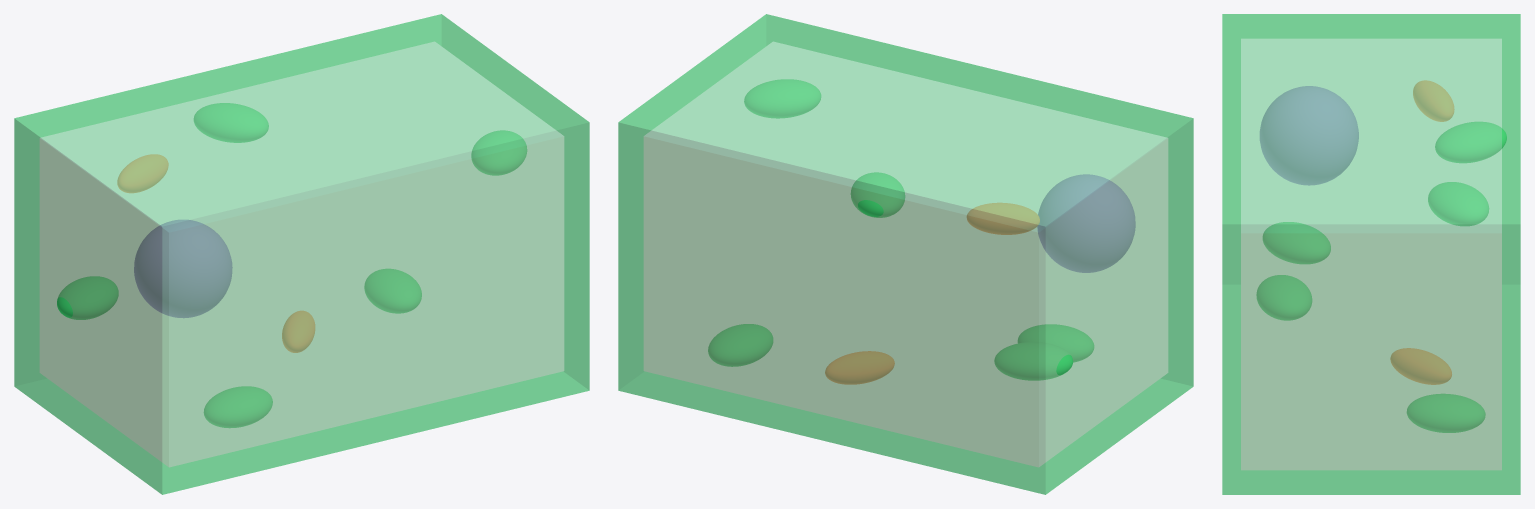
File: plant.glb
The picture shows the model from 3 angles, left to right: view 1: azimuth 30°, elevation 25°; view 2: azimuth 150°, elevation 25°; view 3: azimuth 270°, elevation 25°; orthographic projection.
Parts seen in each view (by area): view 1: wall, membrane, nucleus, chloroplast3, chloroplast0, chloroplast4, chloroplast1, chloroplast2, mito1, mito0; view 2: wall, membrane, nucleus, chloroplast4, chloroplast2, chloroplast1, chloroplast3, mito1, mito0, chloroplast0; view 3: wall, membrane, nucleus, chloroplast1, chloroplast3, chloroplast2, chloroplast4, chloroplast0, mito0, mito1.
Boxes of the visible parts, x1,y1,x2,y2 form: wall: [14, 14, 589, 494]; membrane: [40, 42, 563, 466]; nucleus: [134, 220, 232, 317]; chloroplast3: [194, 103, 268, 142]; chloroplast0: [204, 386, 272, 427]; chloroplast4: [57, 276, 118, 319]; chloroplast1: [364, 269, 421, 313]; chloroplast2: [471, 130, 526, 175]; mito1: [117, 154, 168, 192]; mito0: [282, 311, 314, 352]; wall: [618, 14, 1193, 494]; membrane: [644, 42, 1167, 466]; nucleus: [1037, 174, 1135, 272]; chloroplast4: [994, 342, 1072, 380]; chloroplast2: [744, 79, 820, 118]; chloroplast1: [708, 324, 772, 366]; chloroplast3: [851, 172, 904, 217]; mito1: [967, 203, 1039, 234]; mito0: [825, 351, 894, 384]; chloroplast0: [1018, 324, 1093, 362]; wall: [1222, 14, 1520, 494]; membrane: [1241, 39, 1501, 469]; nucleus: [1260, 86, 1358, 185]; chloroplast1: [1407, 394, 1485, 432]; chloroplast3: [1435, 122, 1506, 162]; chloroplast2: [1263, 222, 1330, 263]; chloroplast4: [1428, 182, 1488, 225]; chloroplast0: [1256, 275, 1311, 320]; mito0: [1390, 348, 1451, 384]; mito1: [1413, 80, 1454, 121].
Size of the model in its own units: 0.4 by 0.24 by 0.24.
